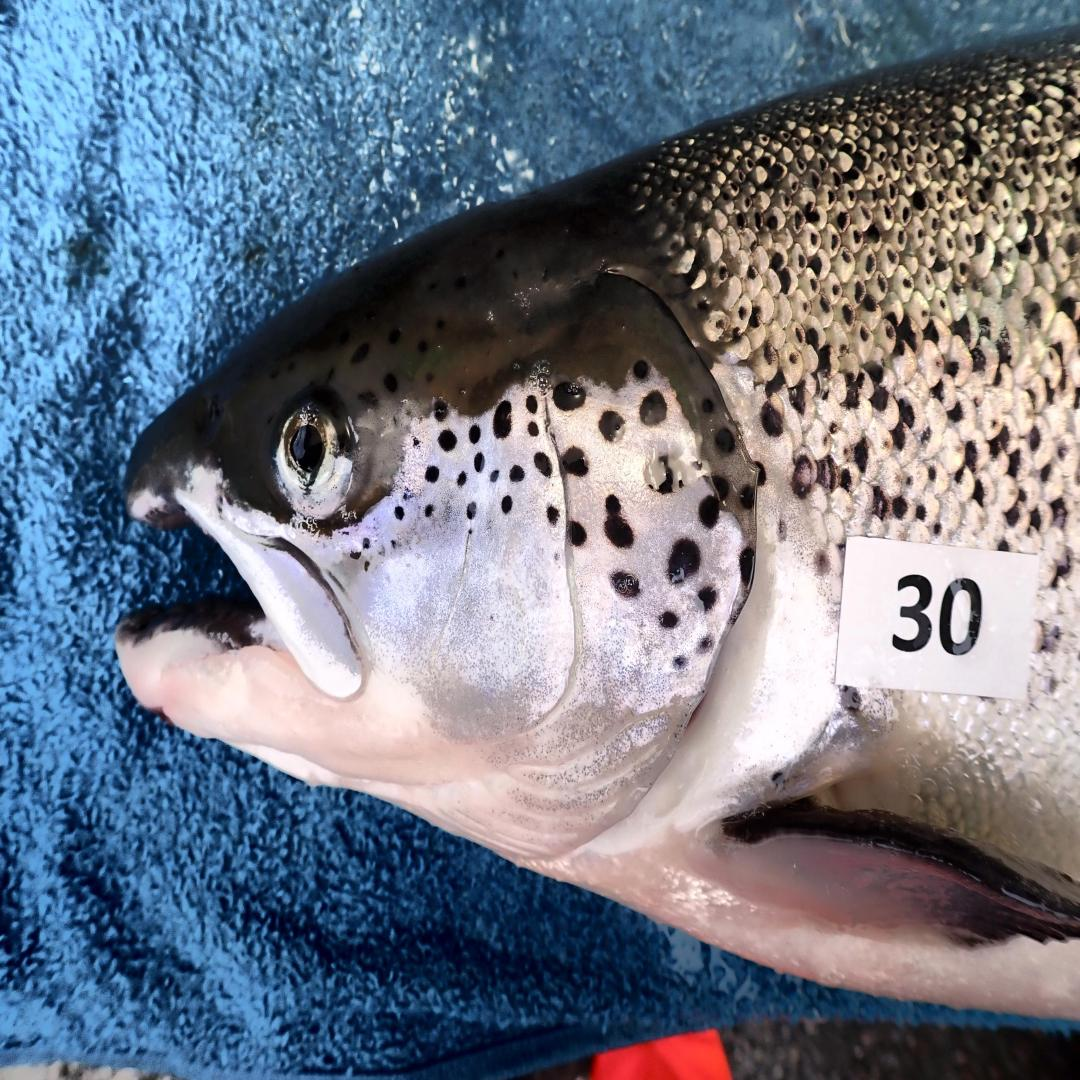spot: (643, 442, 709, 495), (603, 495, 635, 548), (669, 537, 700, 582), (639, 391, 667, 428), (553, 382, 586, 411), (561, 447, 589, 475), (599, 411, 624, 442), (494, 399, 513, 439), (698, 495, 719, 529), (612, 571, 639, 596), (740, 547, 755, 585), (715, 427, 735, 454), (712, 475, 731, 502), (698, 585, 717, 610), (534, 453, 553, 478), (570, 520, 586, 546), (439, 430, 458, 450), (660, 610, 679, 630), (633, 360, 650, 380), (740, 485, 754, 509), (434, 399, 448, 422), (546, 506, 561, 526), (508, 464, 525, 481), (424, 467, 439, 484), (468, 425, 481, 444), (401, 487, 416, 503), (697, 637, 711, 653), (502, 495, 513, 515), (673, 655, 688, 669), (466, 501, 477, 520), (525, 397, 538, 413), (475, 453, 485, 472), (702, 398, 714, 413), (424, 503, 435, 518), (527, 422, 538, 436), (489, 470, 500, 484), (394, 506, 405, 520), (350, 548, 361, 560), (458, 472, 466, 487), (363, 537, 371, 551), (412, 436, 420, 449), (364, 561, 370, 571), (391, 540, 397, 549), (468, 528, 472, 535)
